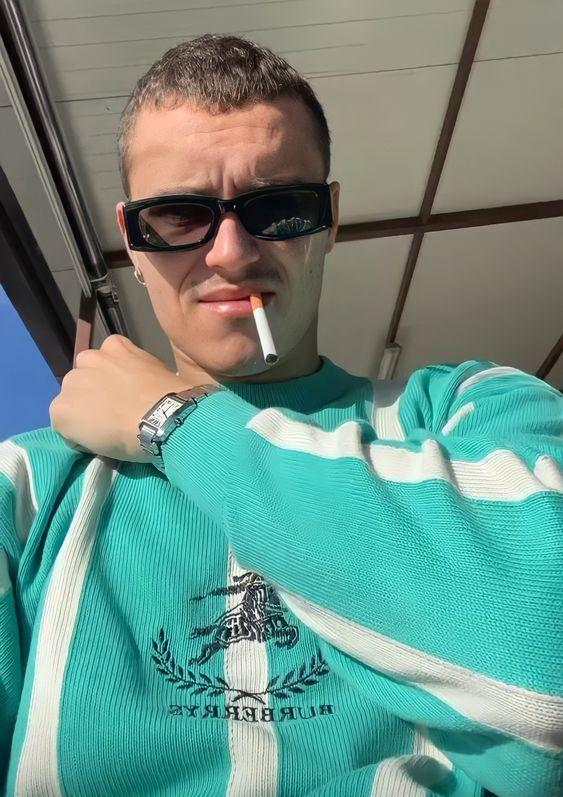cigarette: (249, 293, 279, 367)
